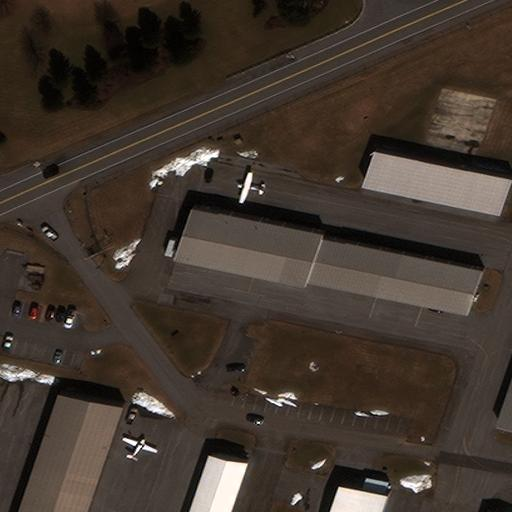Small Civil Transport: (235, 171, 265, 203), (123, 436, 157, 460)
